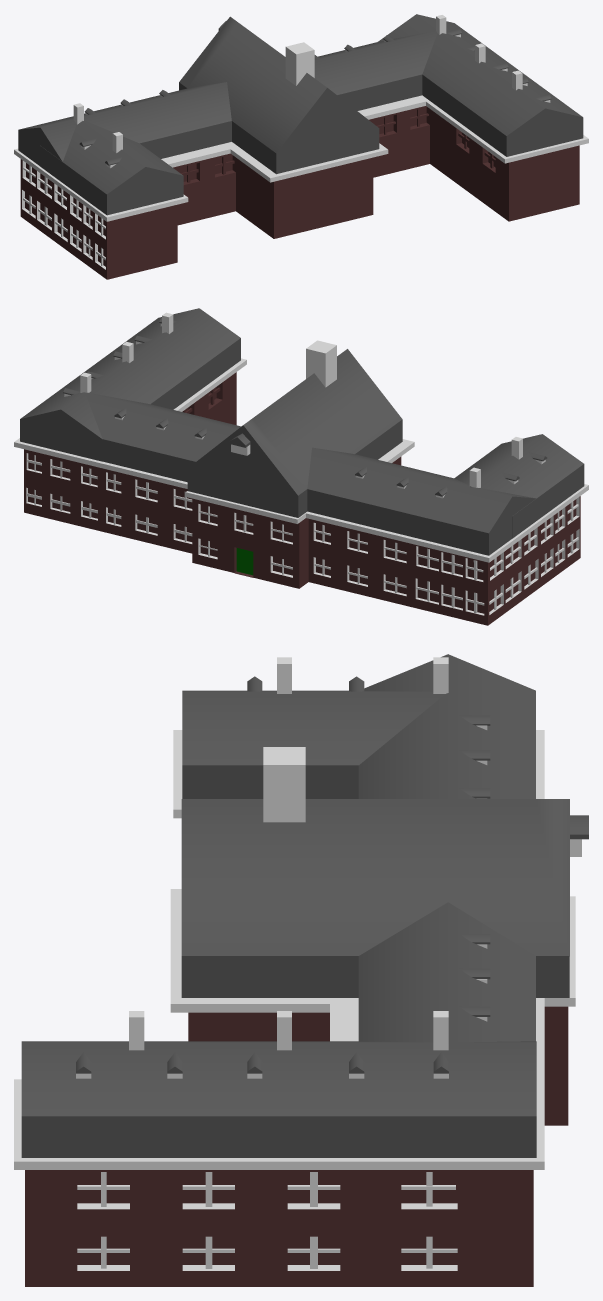
Rendered from TEXTILES BUILD.fbx.
3 views of the same model, one above another, from view 1: azimuth 30°, elevation 25°; view 2: azimuth 150°, elevation 25°; view 3: azimuth 270°, elevation 25° (orthographic). The views are drawn at different scales.
Visible parts, largest first — view 1: pCube1; view 2: pCube1; view 3: pCube1.
Part boxes in pixels (x1,y1,x2,y2): pCube1: (14, 14, 588, 279); pCube1: (14, 308, 588, 625); pCube1: (14, 654, 588, 1286).
Bounding box in the file's own units: 198 × 68.92 × 111.
